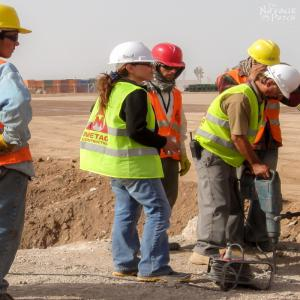red: (151, 43, 185, 82)
white: (109, 42, 157, 81), (257, 65, 300, 104)
yellow: (2, 5, 28, 60), (247, 40, 283, 70)
